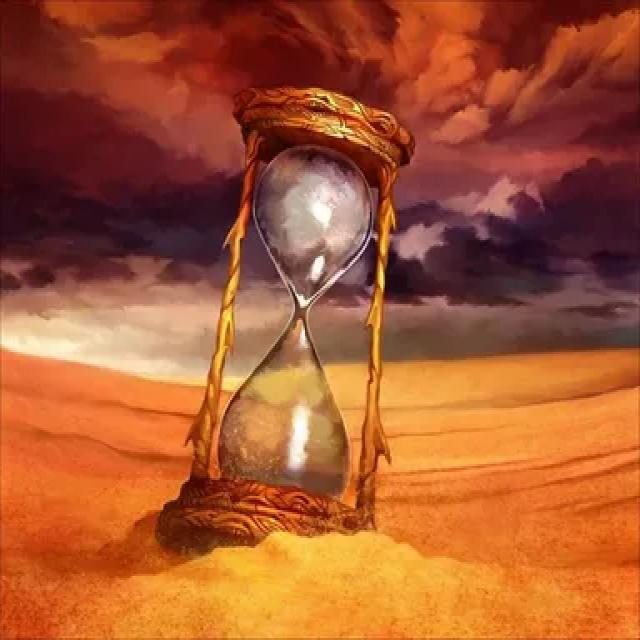clock: (176, 69, 398, 572)
